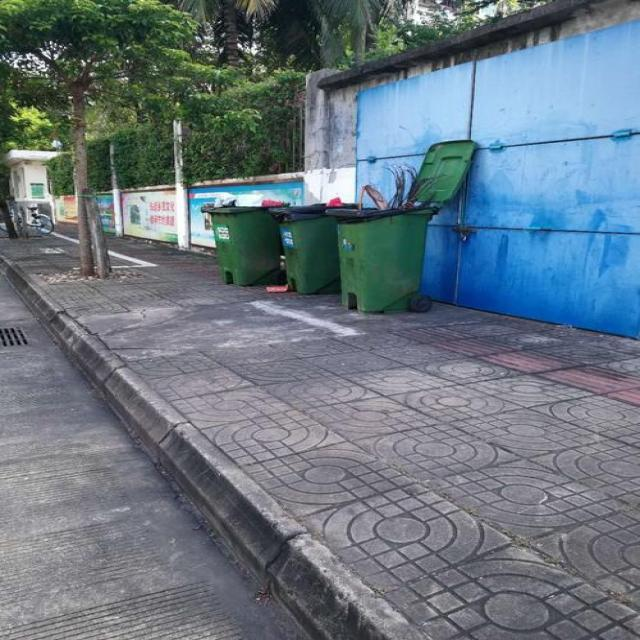garbage: (265, 283, 289, 292)
overflow: (328, 163, 432, 312), (272, 194, 358, 294), (200, 199, 286, 284)
